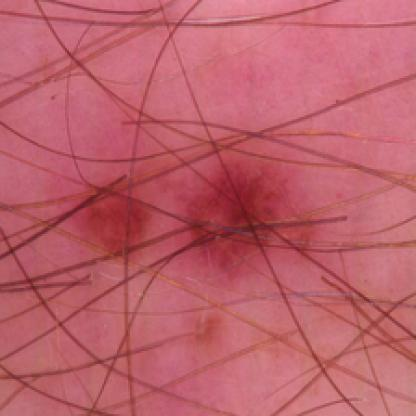benign: (69, 150, 323, 273)
